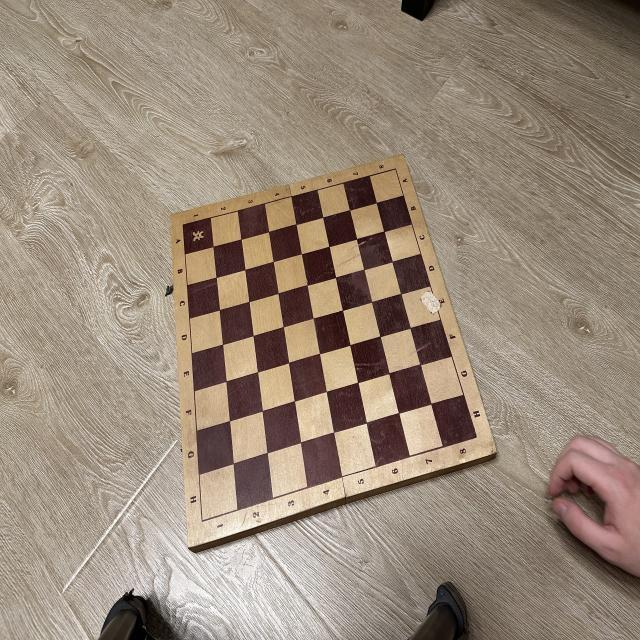chess-table-corners: (198, 516, 207, 526), (392, 165, 398, 172), (474, 432, 478, 442), (180, 222, 186, 228)
